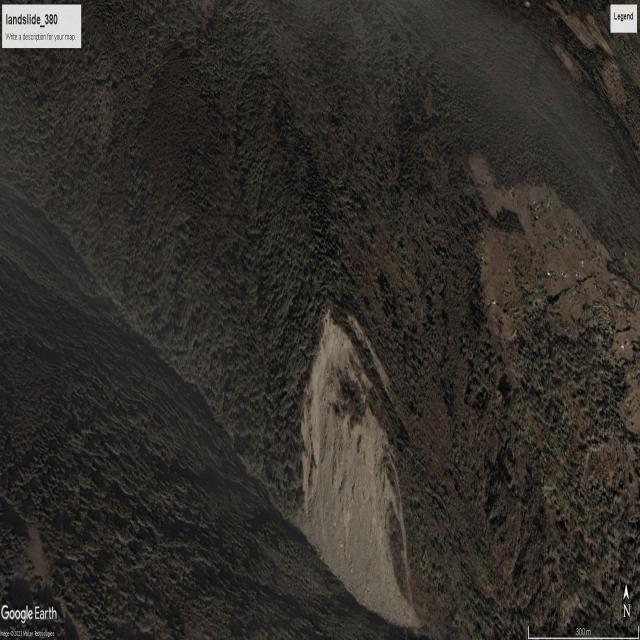Landslide: (305, 317, 410, 616)
